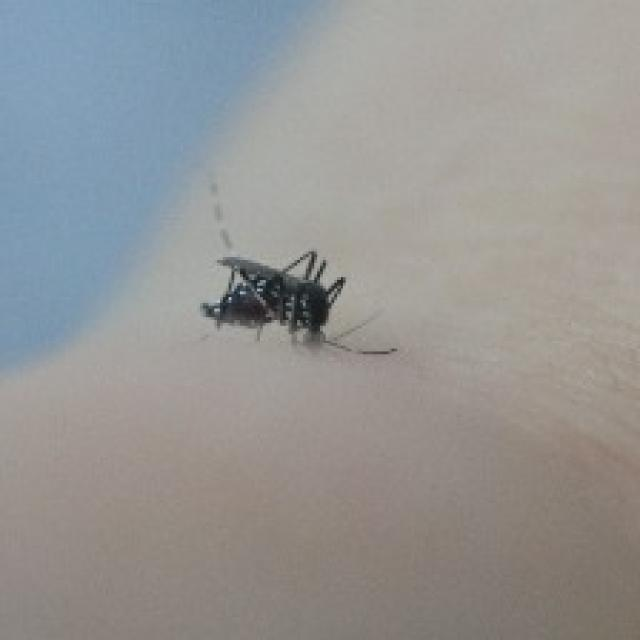aedes: (174, 232, 420, 384)
